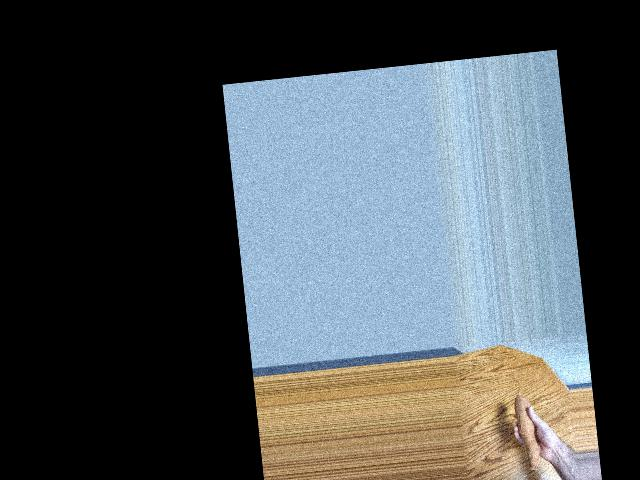sweet_potato: (510, 391, 543, 475)
